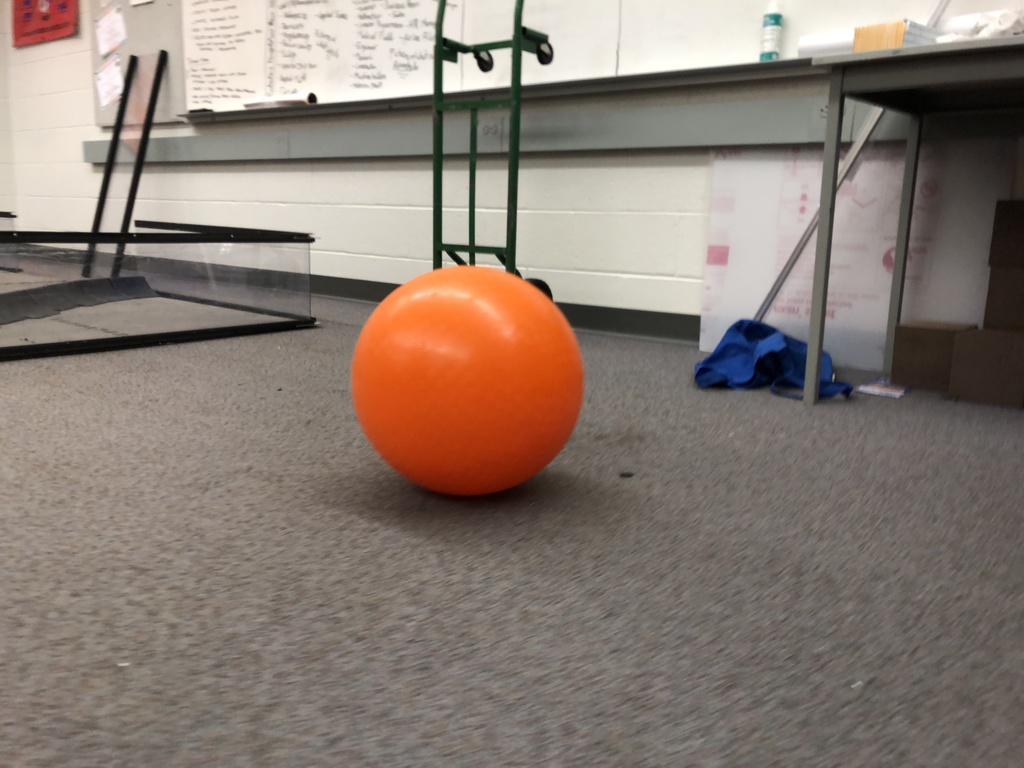cargo: (342, 258, 593, 511)
